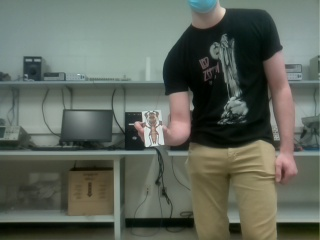Angry: (143, 110, 163, 147)
